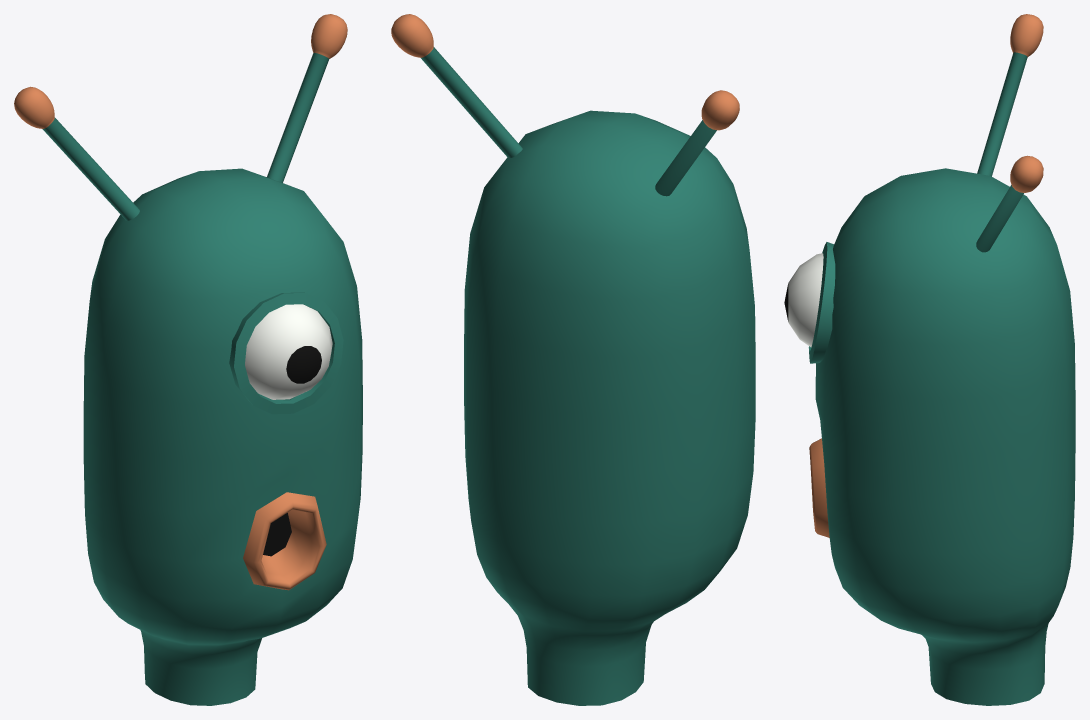
File: Head2.fbx
3 views of the same model, side by side, from view 1: azimuth 30°, elevation 25°; view 2: azimuth 150°, elevation 25°; view 3: azimuth 270°, elevation 25° (orthographic). The views are drawn at different scales.
Visible parts, largest first — view 1: Head2, Eye; view 2: Head2; view 3: Head2, Eye.
Part boxes in pixels (x1=…): Head2: x1=14, y1=14, x2=362, y2=705; Eye: x1=245, y1=304, x2=332, y2=399; Head2: x1=391, y1=14, x2=755, y2=705; Head2: x1=808, y1=14, x2=1075, y2=705; Eye: x1=784, y1=253, x2=823, y2=347.
Bounding box in the file's own units: 0.3346 × 0.5973 × 0.2638.
